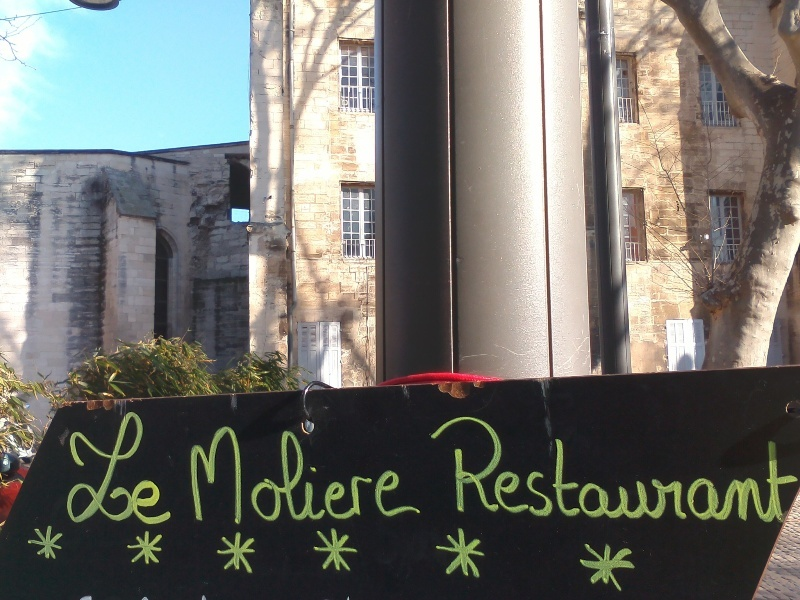text: (81, 409, 96, 526), (97, 409, 112, 526), (113, 409, 128, 526), (129, 409, 144, 526), (145, 409, 160, 526), (161, 409, 176, 526), (433, 411, 448, 526), (449, 411, 464, 526), (465, 411, 480, 526), (481, 411, 496, 526), (497, 411, 512, 526), (513, 411, 528, 526), (529, 411, 544, 526), (545, 411, 560, 526), (561, 411, 576, 526), (577, 411, 592, 526), (593, 411, 608, 526), (609, 411, 624, 526), (625, 411, 640, 526), (641, 411, 656, 526), (657, 411, 672, 526), (673, 411, 688, 526), (689, 411, 704, 526), (705, 411, 720, 526), (721, 411, 736, 526), (737, 411, 752, 526), (753, 411, 768, 526), (769, 411, 784, 526), (193, 425, 208, 528), (209, 425, 224, 528), (225, 425, 240, 528), (241, 425, 256, 528), (257, 425, 272, 528), (273, 425, 288, 528), (289, 425, 304, 528), (305, 425, 320, 528), (321, 425, 336, 528), (337, 425, 352, 528), (353, 425, 368, 528), (369, 425, 384, 528), (385, 425, 400, 528), (401, 425, 416, 528), (785, 411, 798, 526), (417, 425, 426, 528), (73, 409, 80, 526), (427, 411, 432, 526), (189, 425, 192, 528)
